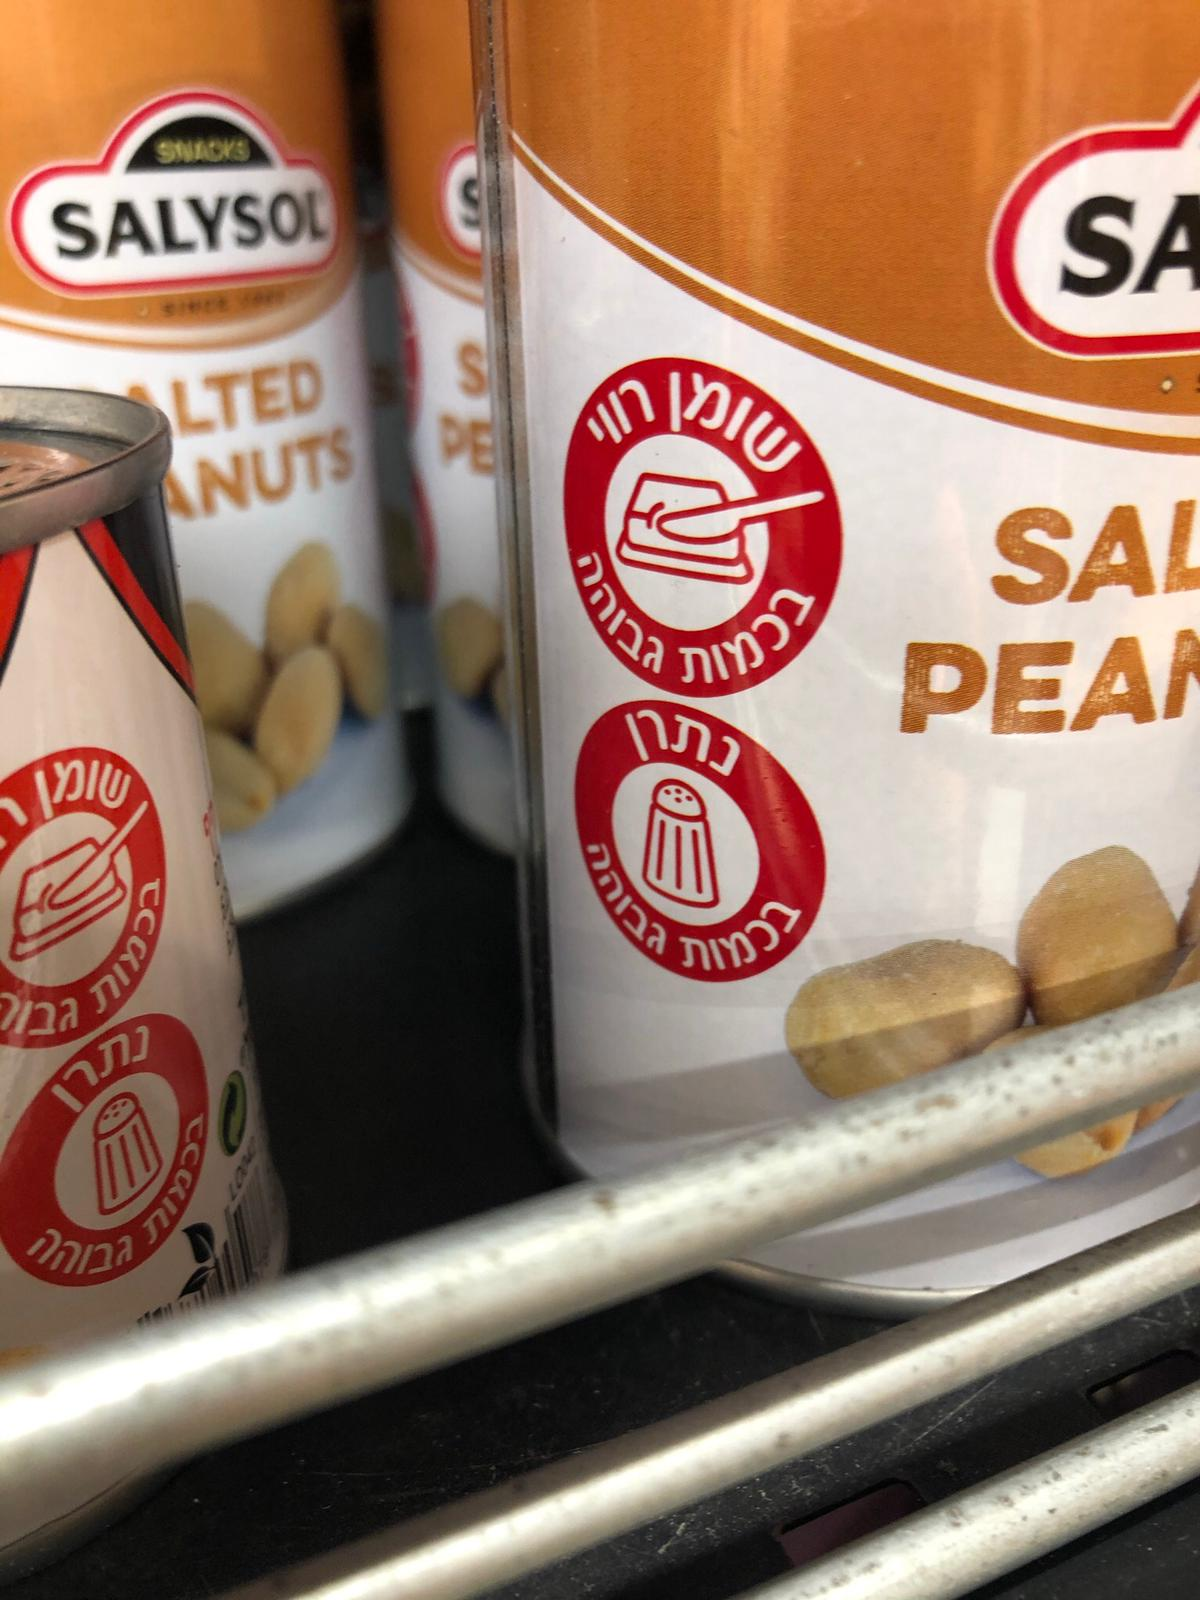fat: (558, 355, 847, 695), (1, 743, 166, 1049)
salt: (571, 700, 824, 986), (1, 1013, 211, 1286)
